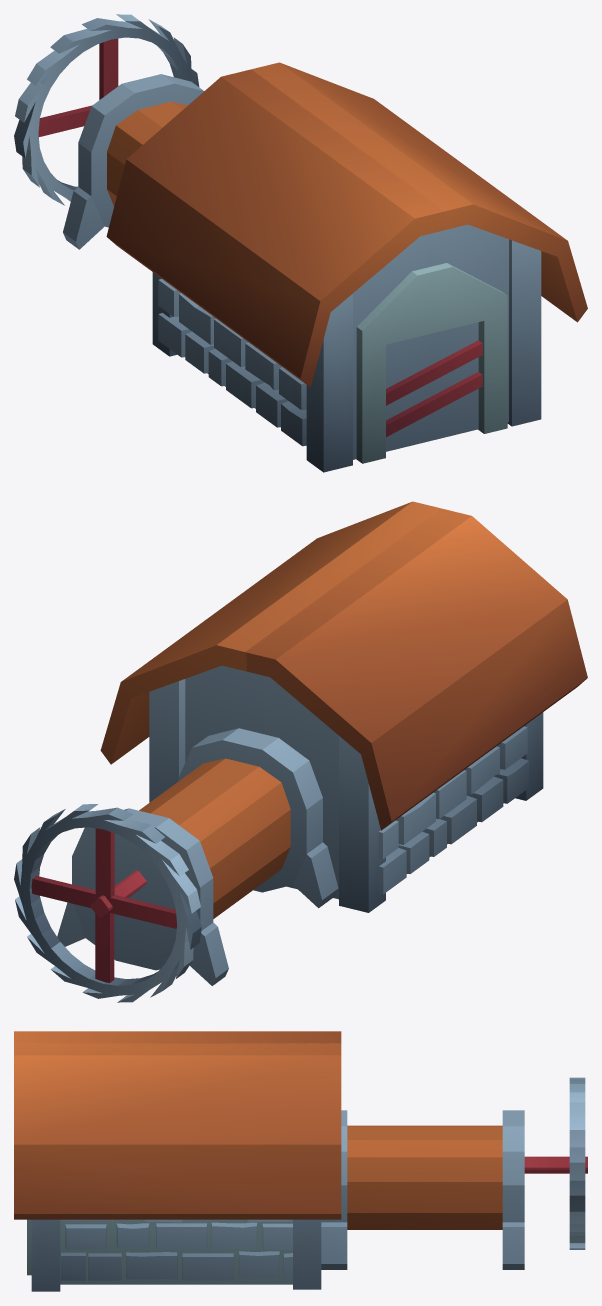
File: drobilkaUNITED_finished12131132.fbx
The picture shows the model from 3 angles, top to bottom: view 1: azimuth 30°, elevation 25°; view 2: azimuth 150°, elevation 25°; view 3: azimuth 270°, elevation 25°; orthographic projection. The views are drawn at different scales.
Visible parts, largest first — view 1: Cube.007, saw; view 2: Cube.007, saw; view 3: Cube.007, saw.
Part boxes in pixels (x1=…): Cube.007: x1=63, y1=62, x2=587, y2=472; saw: x1=14, y1=14, x2=199, y2=205; Cube.007: x1=57, y1=501, x2=587, y2=985; saw: x1=14, y1=804, x2=201, y2=1002; Cube.007: x1=14, y1=1031, x2=524, y2=1291; saw: x1=524, y1=1077, x2=587, y2=1249.
Size of the model in its own units: 296 by 238 by 607.
